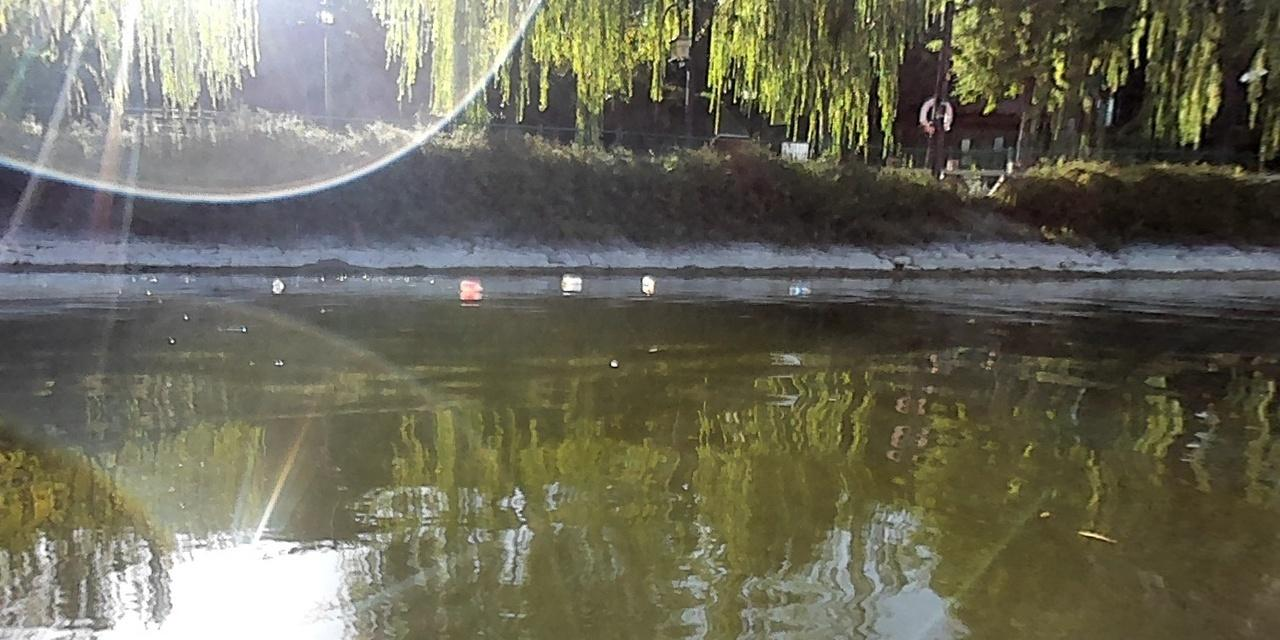bottle: (456, 276, 483, 294), (787, 283, 813, 295), (270, 274, 283, 288)
